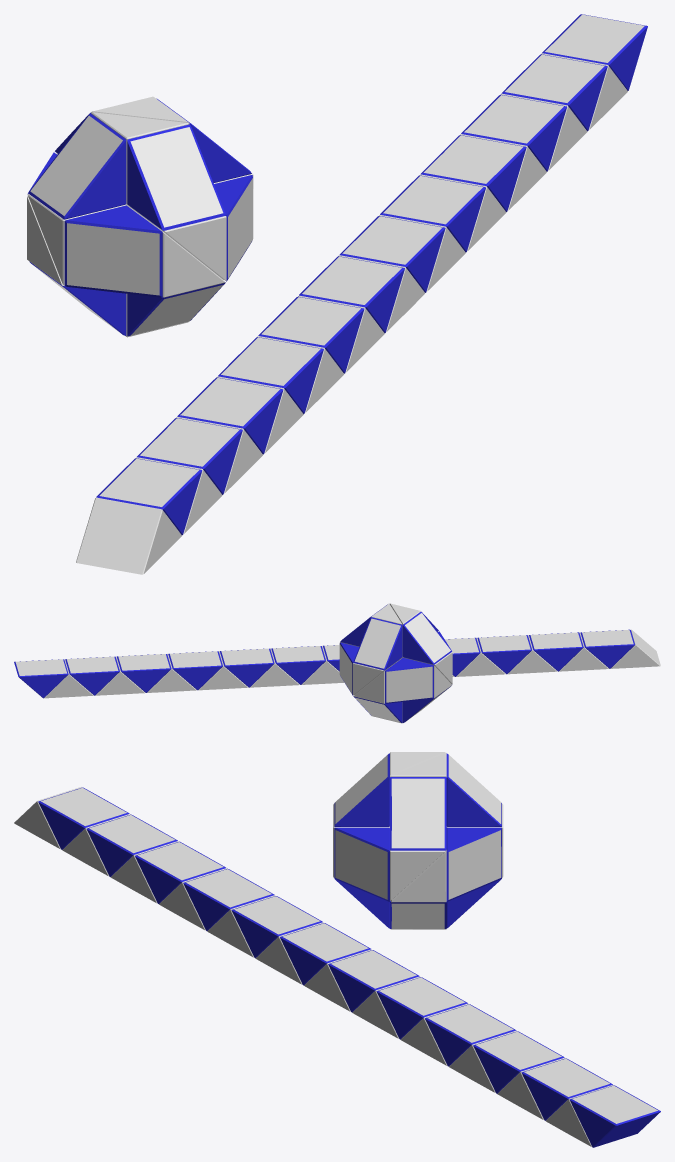
The model's file is RubiksSnake_1.fbx.
The picture shows the model from 3 angles, top to bottom: view 1: azimuth 30°, elevation 25°; view 2: azimuth 150°, elevation 25°; view 3: azimuth 270°, elevation 25°; orthographic projection. The views are drawn at different scales.
Parts seen in each view (by area): view 1: RubiksSnake_3:pCube66, RubiksSnake_3:pCube88; view 2: RubiksSnake_3:pCube66, RubiksSnake_3:pCube88; view 3: RubiksSnake_3:pCube66, RubiksSnake_3:pCube88.
Boxes of the visible parts, x1,y1,x2,y2 form: RubiksSnake_3:pCube66: (76,14,647,574); RubiksSnake_3:pCube88: (27,96,253,337); RubiksSnake_3:pCube66: (14,629,660,698); RubiksSnake_3:pCube88: (339,603,452,723); RubiksSnake_3:pCube66: (14,787,660,1147); RubiksSnake_3:pCube88: (333,752,503,929).
Size of the model in its own units: 44.01 by 9.2 by 34.2.
